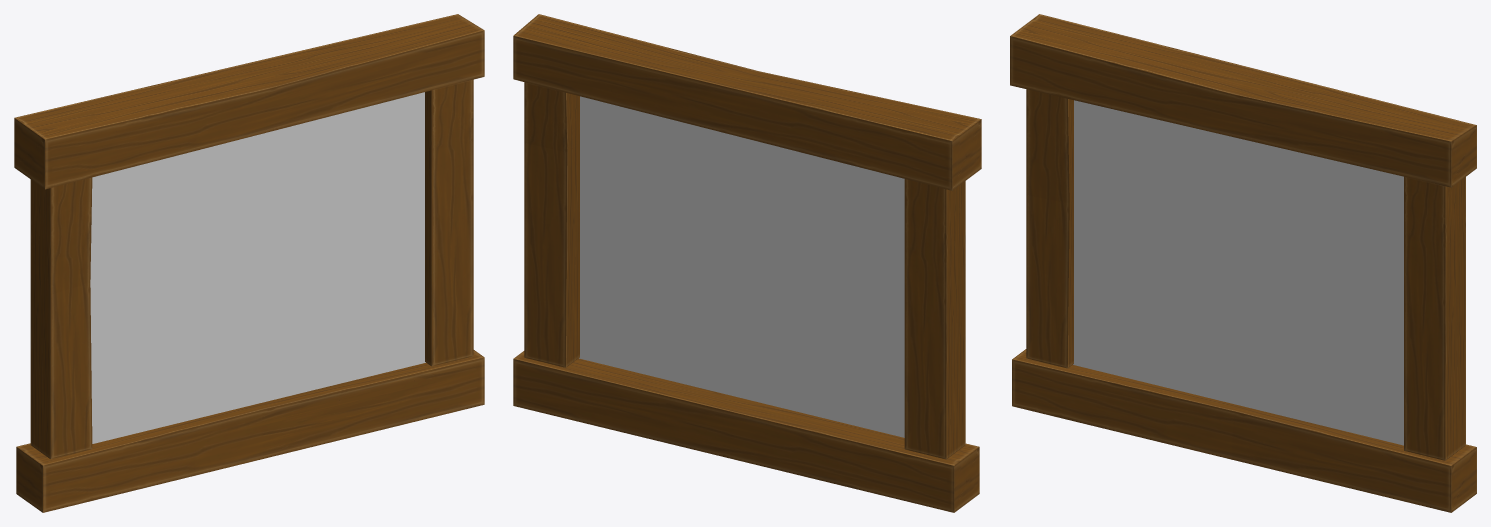
The model's file is SM_House_Window_D.fbx.
3 renders of one model, left to right at view 1: azimuth 30°, elevation 25°; view 2: azimuth 150°, elevation 25°; view 3: azimuth 330°, elevation 25°, orthographic.
Parts seen in each view (by area): view 1: SM_House_Window_D; view 2: SM_House_Window_D; view 3: SM_House_Window_D.
Part boxes in pixels (<box>): SM_House_Window_D: <box>14,14,484,512</box>; SM_House_Window_D: <box>513,14,981,512</box>; SM_House_Window_D: <box>1010,14,1476,512</box>.
Bounding box in the file's own units: 1.67 × 1.35 × 0.1975.
